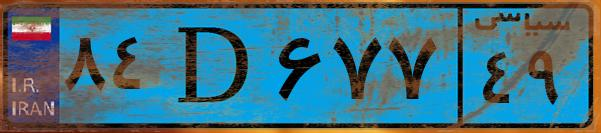4: (475, 38, 525, 113), (110, 28, 158, 98)
6: (270, 28, 330, 110)
7: (385, 28, 445, 110), (330, 28, 385, 110)
8: (57, 26, 110, 100)
9: (525, 38, 570, 115)
D: (158, 12, 270, 120)
